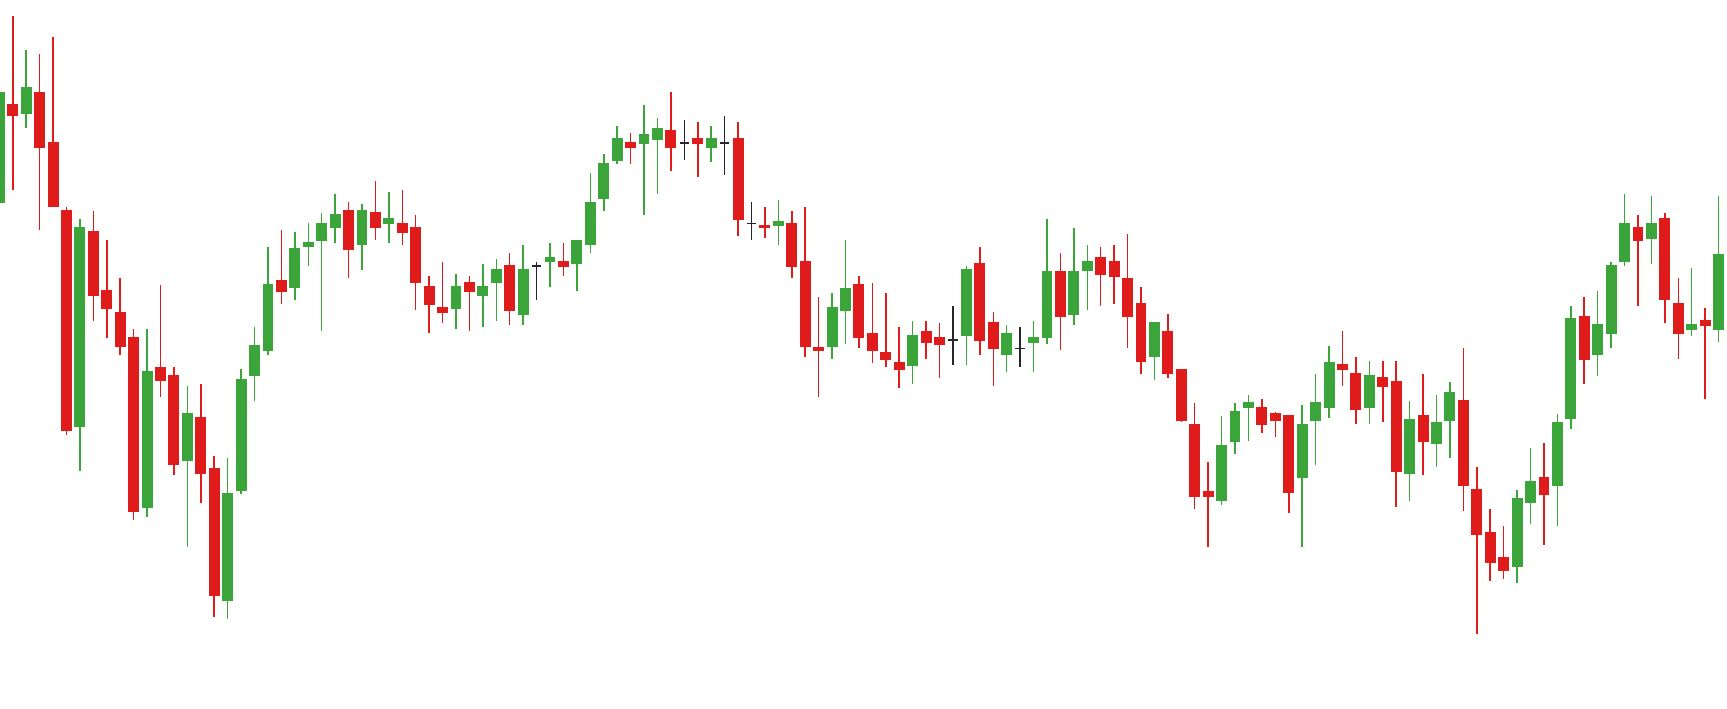buy: (1279, 423, 1525, 650)
sell: (962, 215, 1068, 339)
